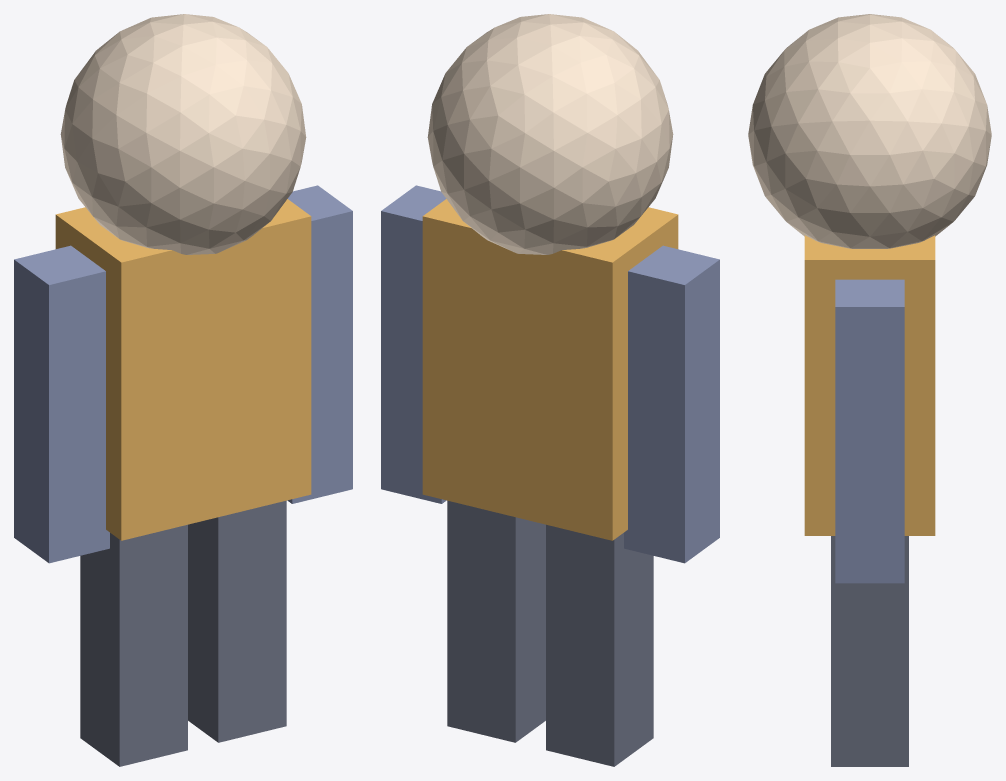
Rendered from operator.glb.
3 views of the same model, side by side, from view 1: azimuth 30°, elevation 25°; view 2: azimuth 150°, elevation 25°; view 3: azimuth 270°, elevation 25° (orthographic).
Visible parts, largest first — view 1: operator_1, operator_0, operator_2, operator_4, operator_5, operator_3; view 2: operator_1, operator_0, operator_2, operator_4, operator_5, operator_3; view 3: operator_0, operator_3, operator_1, operator_5.
Boxes of the visible parts, x1=… form: operator_1: x1=55, y1=199, x2=311, y2=540; operator_0: x1=60, y1=14, x2=306, y2=254; operator_2: x1=14, y1=245, x2=109, y2=563; operator_4: x1=80, y1=524, x2=187, y2=766; operator_5: x1=188, y1=500, x2=286, y2=742; operator_3: x1=287, y1=185, x2=352, y2=503; operator_1: x1=422, y1=199, x2=678, y2=540; operator_0: x1=427, y1=14, x2=673, y2=254; operator_2: x1=624, y1=245, x2=719, y2=563; operator_4: x1=546, y1=524, x2=653, y2=766; operator_5: x1=447, y1=500, x2=545, y2=742; operator_3: x1=381, y1=185, x2=446, y2=503; operator_0: x1=748, y1=14, x2=991, y2=248; operator_3: x1=835, y1=279, x2=904, y2=583; operator_1: x1=804, y1=235, x2=935, y2=535; operator_5: x1=831, y1=536, x2=908, y2=766.
Size of the model in its own units: 0.8 by 1.78 by 0.56.
